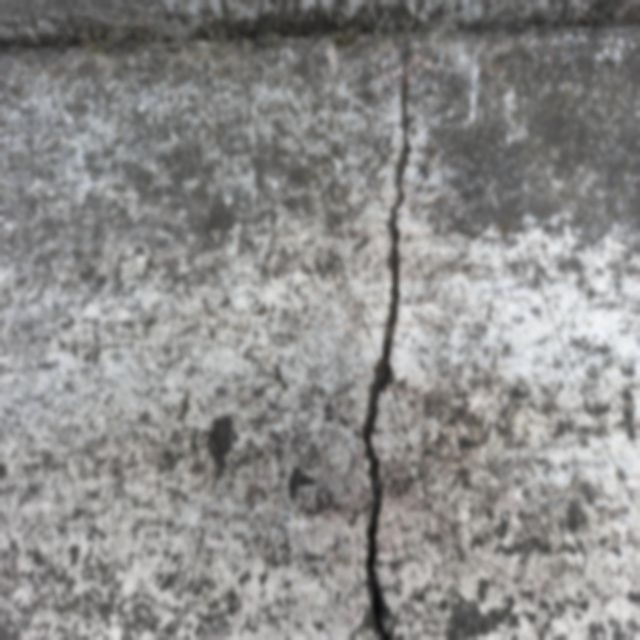SurfaceCrack: (299, 3, 474, 640)
